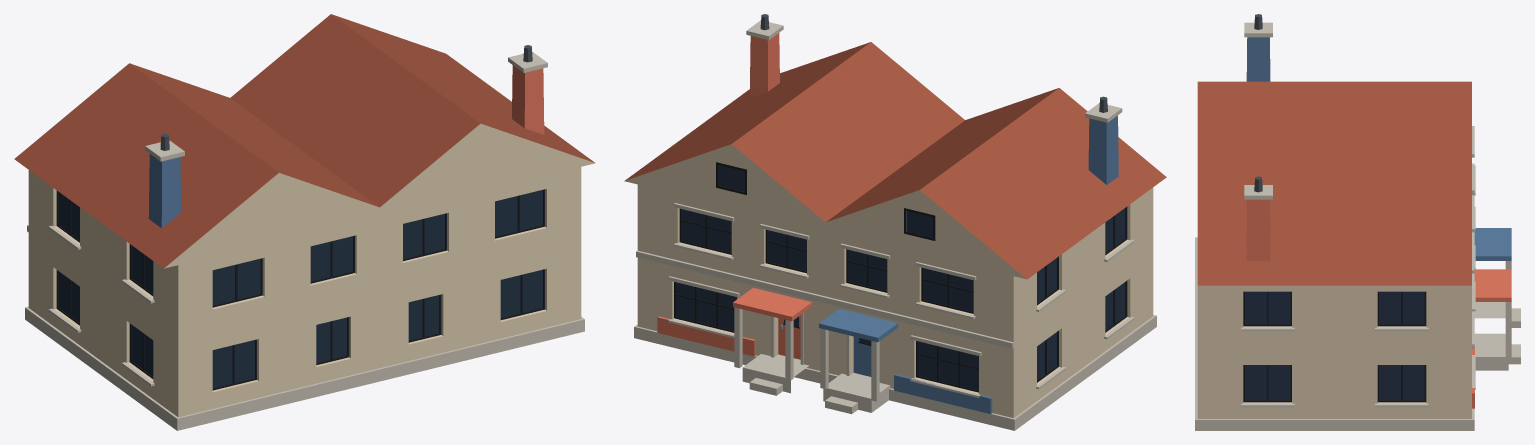
File: bld_duplex.glb
3 views of the same model, side by side, from view 1: azimuth 30°, elevation 25°; view 2: azimuth 150°, elevation 25°; view 3: azimuth 270°, elevation 25° (orthographic). The views are drawn at different scales.
Parts seen in each view (by area): view 1: Body; view 2: Body; view 3: Body.
Boxes of the visible parts, x1,y1,x2,y2 form: Body: (14,14,595,430); Body: (624,14,1166,430); Body: (1195,14,1520,430).
Size of the model in its own units: 15 by 8.79 by 10.68.
